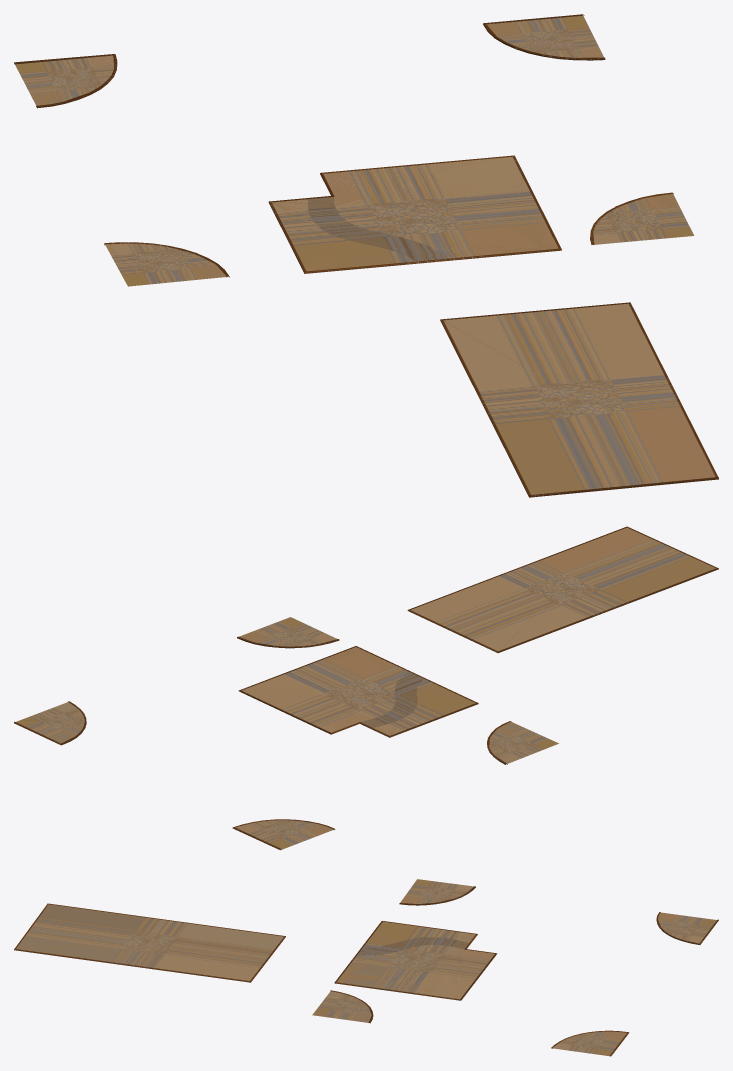
The model's file is objects_un_t03tile02.gltf.
3 renders of one model, top to bottom at view 1: azimuth 30°, elevation 25°; view 2: azimuth 150°, elevation 25°; view 3: azimuth 270°, elevation 25°, orthographic. The views are drawn at different scales.
Parts seen in each view (by area): view 1: um_objects_un_t03tile02_model_lod0Shape:objects_un_t03tile02 (×2), um_objects_un_t03tile02_model_lod2Shape:objects_un_t03tile02 (×2), um_objects_un_t03tile02_model_lod1Shape:objects_un_t03tile02; view 2: um_objects_un_t03tile02_model_lod0Shape:objects_un_t03tile02 (×2), um_objects_un_t03tile02_model_lod2Shape:objects_un_t03tile02 (×2), um_objects_un_t03tile02_model_lod1Shape:objects_un_t03tile02; view 3: um_objects_un_t03tile02_model_lod0Shape:objects_un_t03tile02 (×2), um_objects_un_t03tile02_model_lod2Shape:objects_un_t03tile02 (×2), um_objects_un_t03tile02_model_lod1Shape:objects_un_t03tile02 (×2).
Boxes of the visible parts, x1,y1,x2,y2 form: um_objects_un_t03tile02_model_lod0Shape:objects_un_t03tile02 (×2): (14,14,718,497); um_objects_un_t03tile02_model_lod2Shape:objects_un_t03tile02 (×2): (15,16,692,285); um_objects_un_t03tile02_model_lod1Shape:objects_un_t03tile02: (18,18,683,285); um_objects_un_t03tile02_model_lod0Shape:objects_un_t03tile02 (×2): (14,526,718,850); um_objects_un_t03tile02_model_lod2Shape:objects_un_t03tile02 (×2): (17,618,556,848); um_objects_un_t03tile02_model_lod1Shape:objects_un_t03tile02: (21,618,554,846); um_objects_un_t03tile02_model_lod0Shape:objects_un_t03tile02 (×2): (14,879,718,1056); um_objects_un_t03tile02_model_lod2Shape:objects_un_t03tile02 (×2): (313,879,716,1055); um_objects_un_t03tile02_model_lod1Shape:objects_un_t03tile02 (×2): (15,880,711,1055).
Size of the model in its own units: 68.79 by 0.2012 by 116.
Materials: 3 (3 with a texture image).
